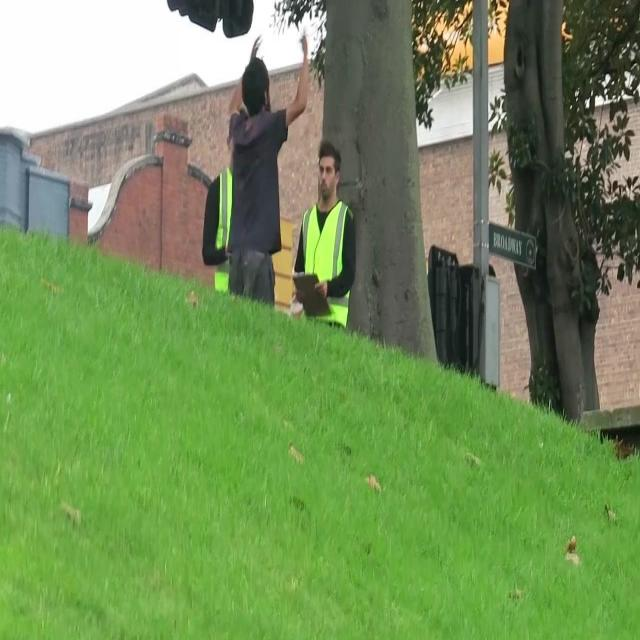vest: (302, 202, 352, 327), (214, 169, 232, 291)
